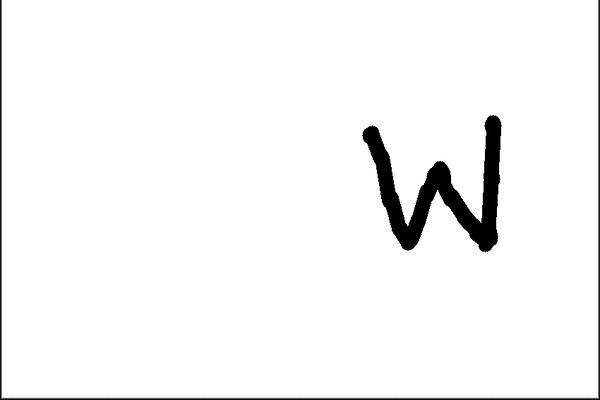w: (348, 101, 525, 269)
